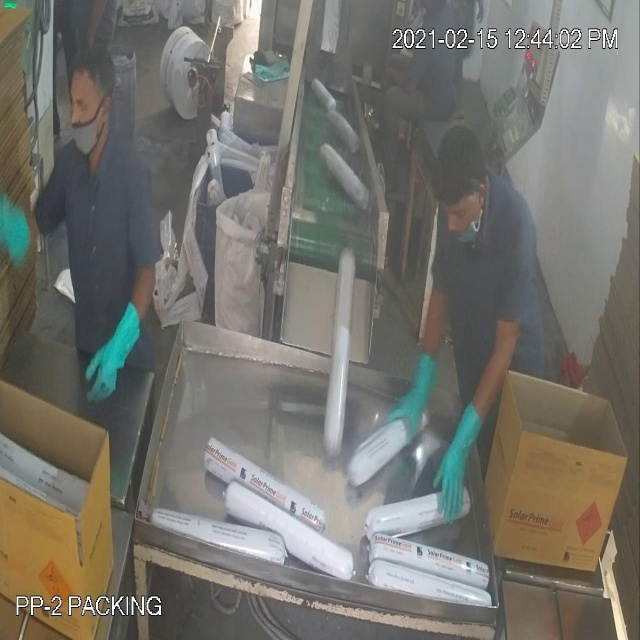Guantes: (425, 394, 502, 540), (74, 286, 158, 412), (386, 331, 440, 460)
Sin_guantes: (373, 60, 422, 108)
